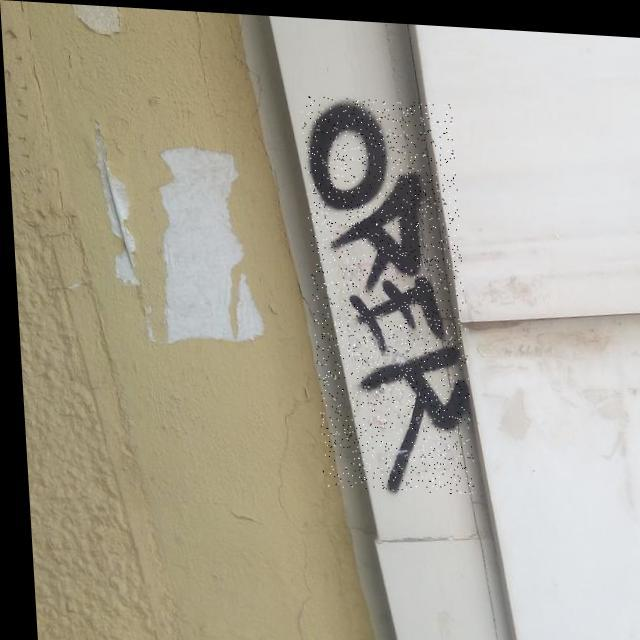-: (300, 92, 470, 490)
